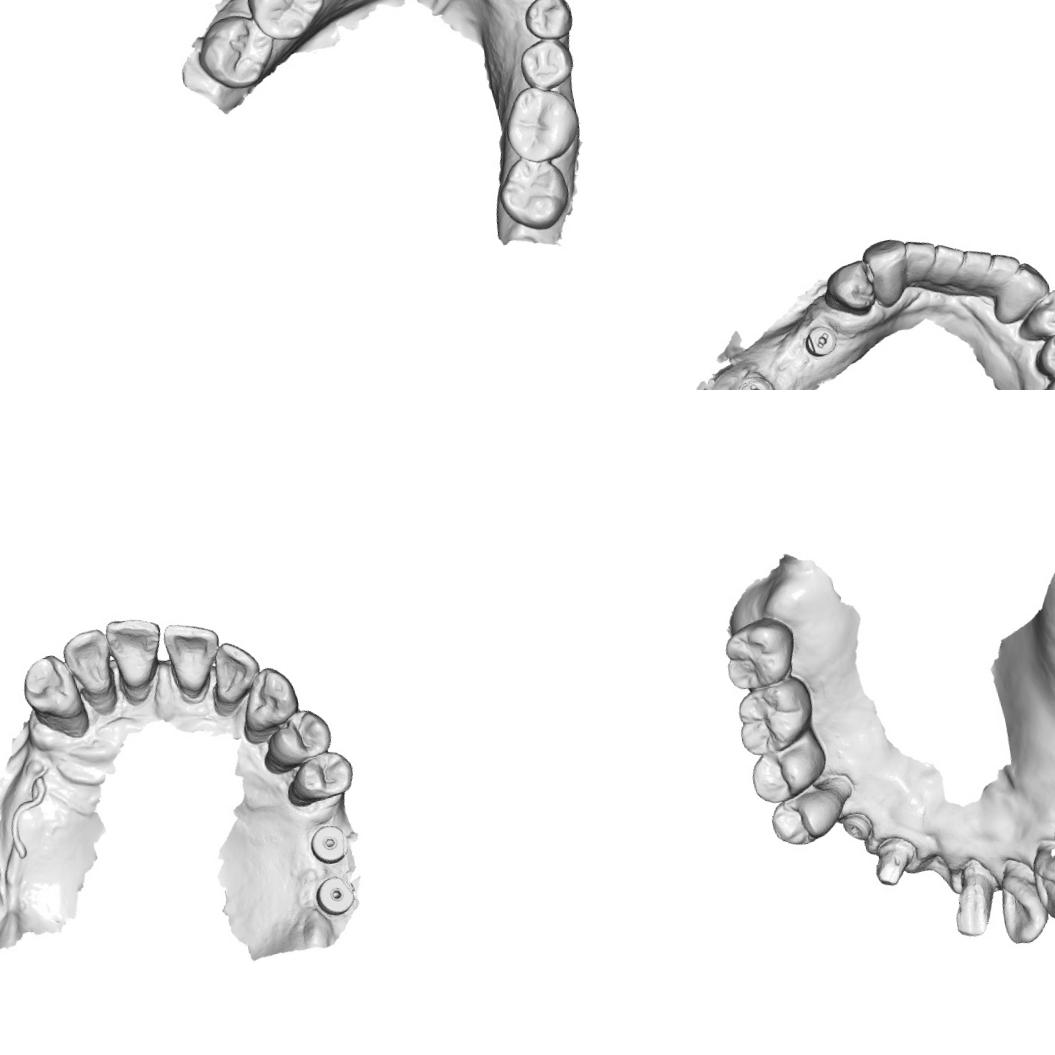canine: (13, 648, 86, 728), (233, 660, 302, 736), (857, 234, 917, 310), (994, 256, 1054, 314), (1028, 844, 1055, 924)
crown: (942, 860, 1002, 940), (867, 832, 922, 890)
implant: (310, 871, 360, 920), (304, 819, 352, 867)
implant_minus: (801, 321, 840, 360), (838, 809, 874, 844), (732, 372, 777, 390)
incisor: (158, 614, 230, 700), (99, 610, 170, 692), (989, 855, 1050, 948), (57, 624, 118, 699), (204, 634, 265, 708), (921, 238, 970, 288), (896, 234, 942, 284), (951, 244, 997, 292), (984, 247, 1025, 291)
molar: (190, 7, 282, 95), (496, 78, 585, 168), (716, 610, 804, 696), (730, 676, 820, 759), (492, 150, 575, 236), (239, 0, 332, 47)
premolar: (742, 736, 832, 808), (764, 783, 845, 853), (259, 702, 336, 771), (284, 746, 359, 808), (515, 32, 577, 94), (820, 257, 877, 320), (518, 0, 575, 43), (1016, 284, 1055, 342), (1029, 325, 1055, 379)
